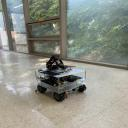cart: (35, 67, 87, 102)
